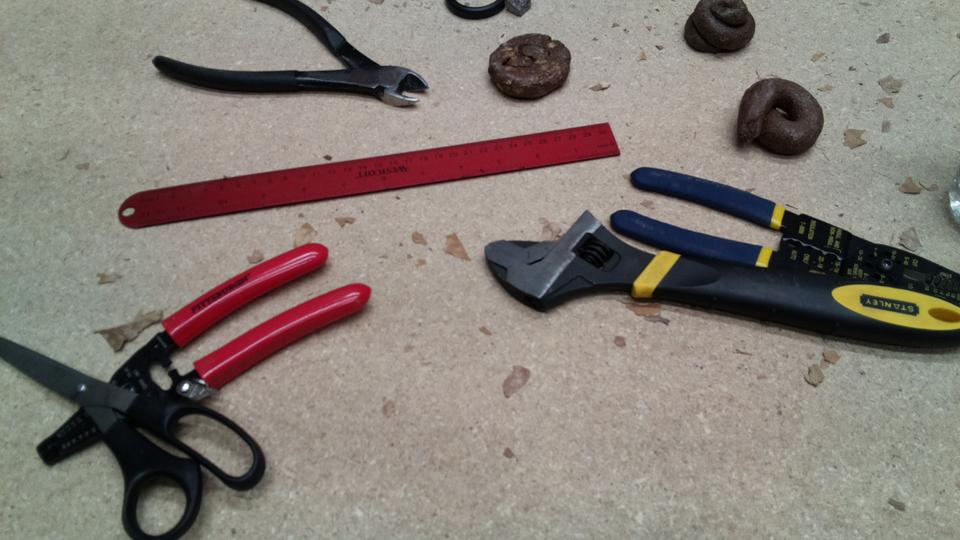poop: (734, 75, 827, 158), (487, 31, 574, 101), (682, 1, 757, 55)
